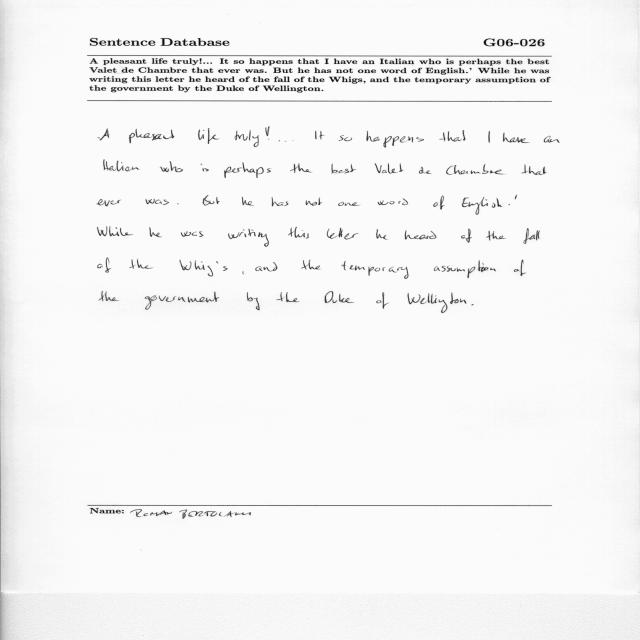word: (145, 292, 219, 310), (342, 261, 409, 279), (408, 293, 467, 313), (434, 260, 496, 278), (367, 131, 425, 148), (179, 260, 228, 277), (224, 162, 271, 178), (462, 197, 503, 215), (228, 229, 269, 247), (446, 164, 505, 175), (129, 129, 175, 143), (235, 130, 259, 147), (104, 160, 139, 171), (97, 227, 133, 237), (327, 228, 359, 239), (325, 291, 354, 303), (198, 128, 219, 144), (440, 130, 466, 142), (405, 230, 436, 240), (375, 163, 404, 173), (503, 133, 529, 143), (521, 165, 547, 175), (524, 228, 540, 244), (160, 162, 183, 173), (288, 227, 309, 239), (332, 164, 357, 174), (129, 259, 153, 269), (247, 292, 260, 310), (277, 292, 300, 302), (376, 292, 389, 309), (290, 163, 312, 173), (378, 198, 408, 205), (301, 260, 321, 270), (99, 291, 119, 301), (256, 262, 278, 271), (98, 258, 111, 273), (514, 260, 526, 276), (486, 231, 505, 241), (203, 195, 220, 206), (97, 199, 121, 206), (433, 196, 445, 210), (461, 229, 472, 243), (272, 197, 289, 206), (306, 197, 323, 206), (145, 199, 169, 205), (98, 129, 109, 141), (181, 231, 203, 237), (376, 229, 388, 240), (149, 228, 162, 238), (544, 136, 560, 143), (242, 197, 254, 206), (338, 202, 360, 206), (419, 167, 431, 174), (315, 131, 325, 139), (339, 135, 352, 141), (200, 164, 209, 172), (265, 127, 270, 140), (279, 140, 293, 142), (488, 131, 490, 143), (515, 195, 517, 199), (242, 272, 244, 275), (471, 304, 474, 306), (177, 203, 179, 205), (508, 204, 510, 205)
